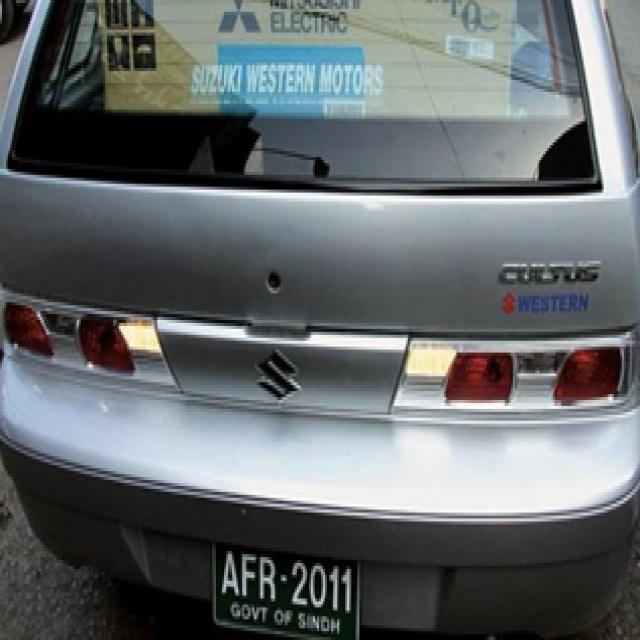license_plate: (212, 542, 359, 640)
